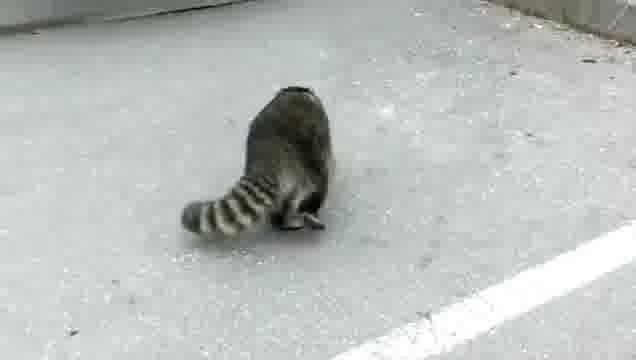raccoon: (174, 81, 347, 247)
